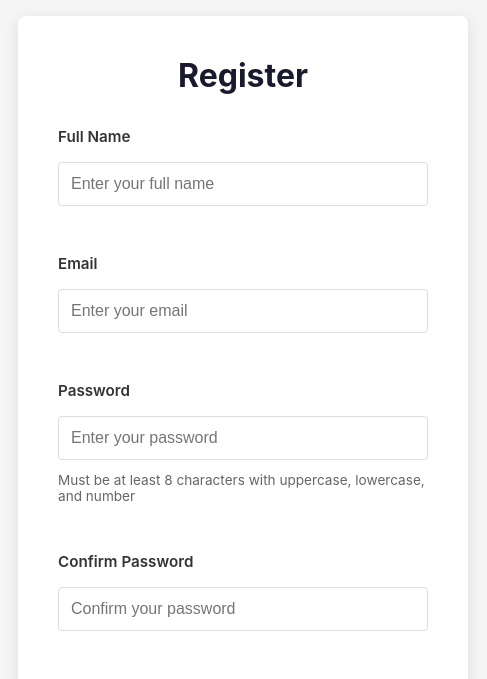
Test case: RegisterForm › validates password length
Step 1. Type "Test User" into the field labelled "Full Name" → (243, 184), box left=58, top=162, right=428, bottom=206
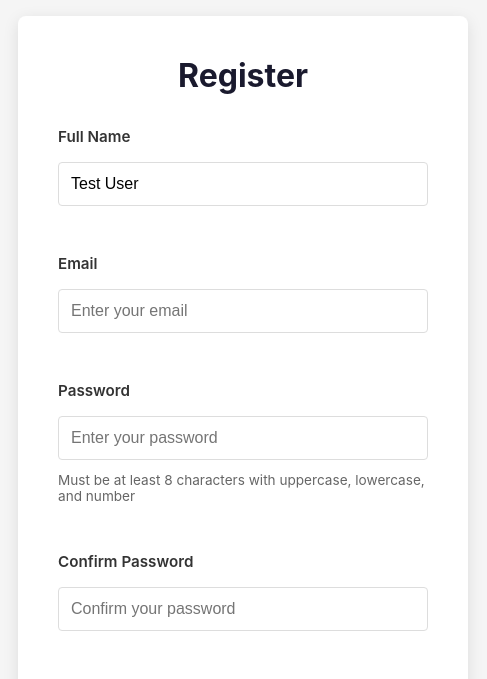
Step 2. Type "test@example.com" into the field labelled "Email" → (243, 311), box left=58, top=289, right=428, bottom=333
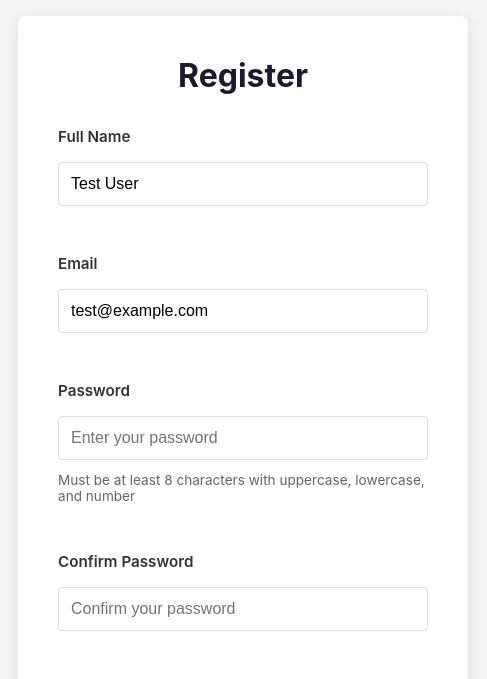
Step 3. Type "Pass1" into the password field labelled "Password" → (243, 438), box left=58, top=416, right=428, bottom=460
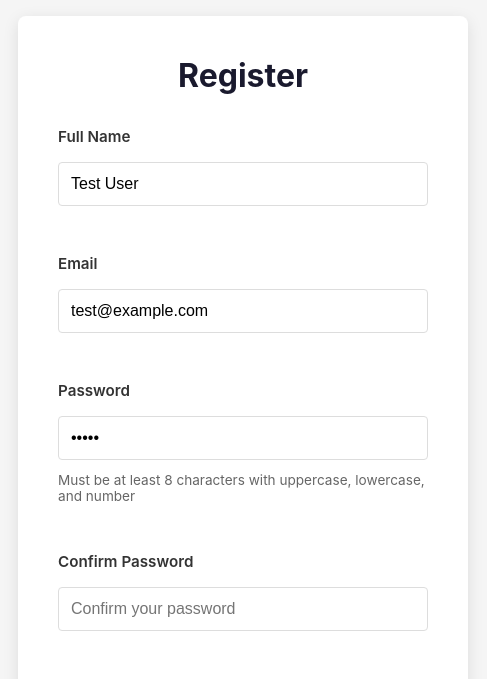
Step 4. Type "Pass1" into the password field labelled "Confirm Password" → (243, 609), box left=58, top=587, right=428, bottom=631
(page scrolled)
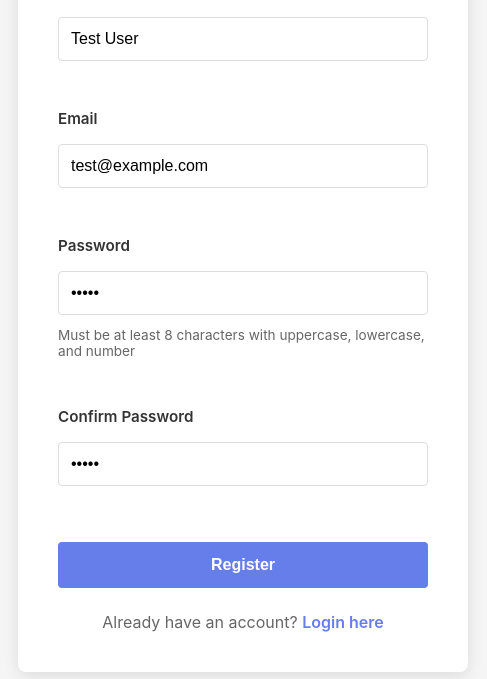
Step 5. Click the button "Register" → (243, 565), box left=58, top=542, right=428, bottom=588
(page scrolled)
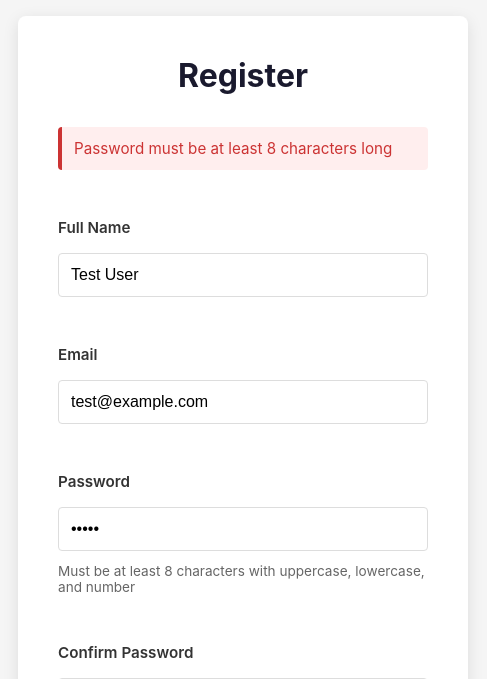
Expected: the text "Password must be at least 8 characters long" is shown, left=58, top=127, right=428, bottom=170
